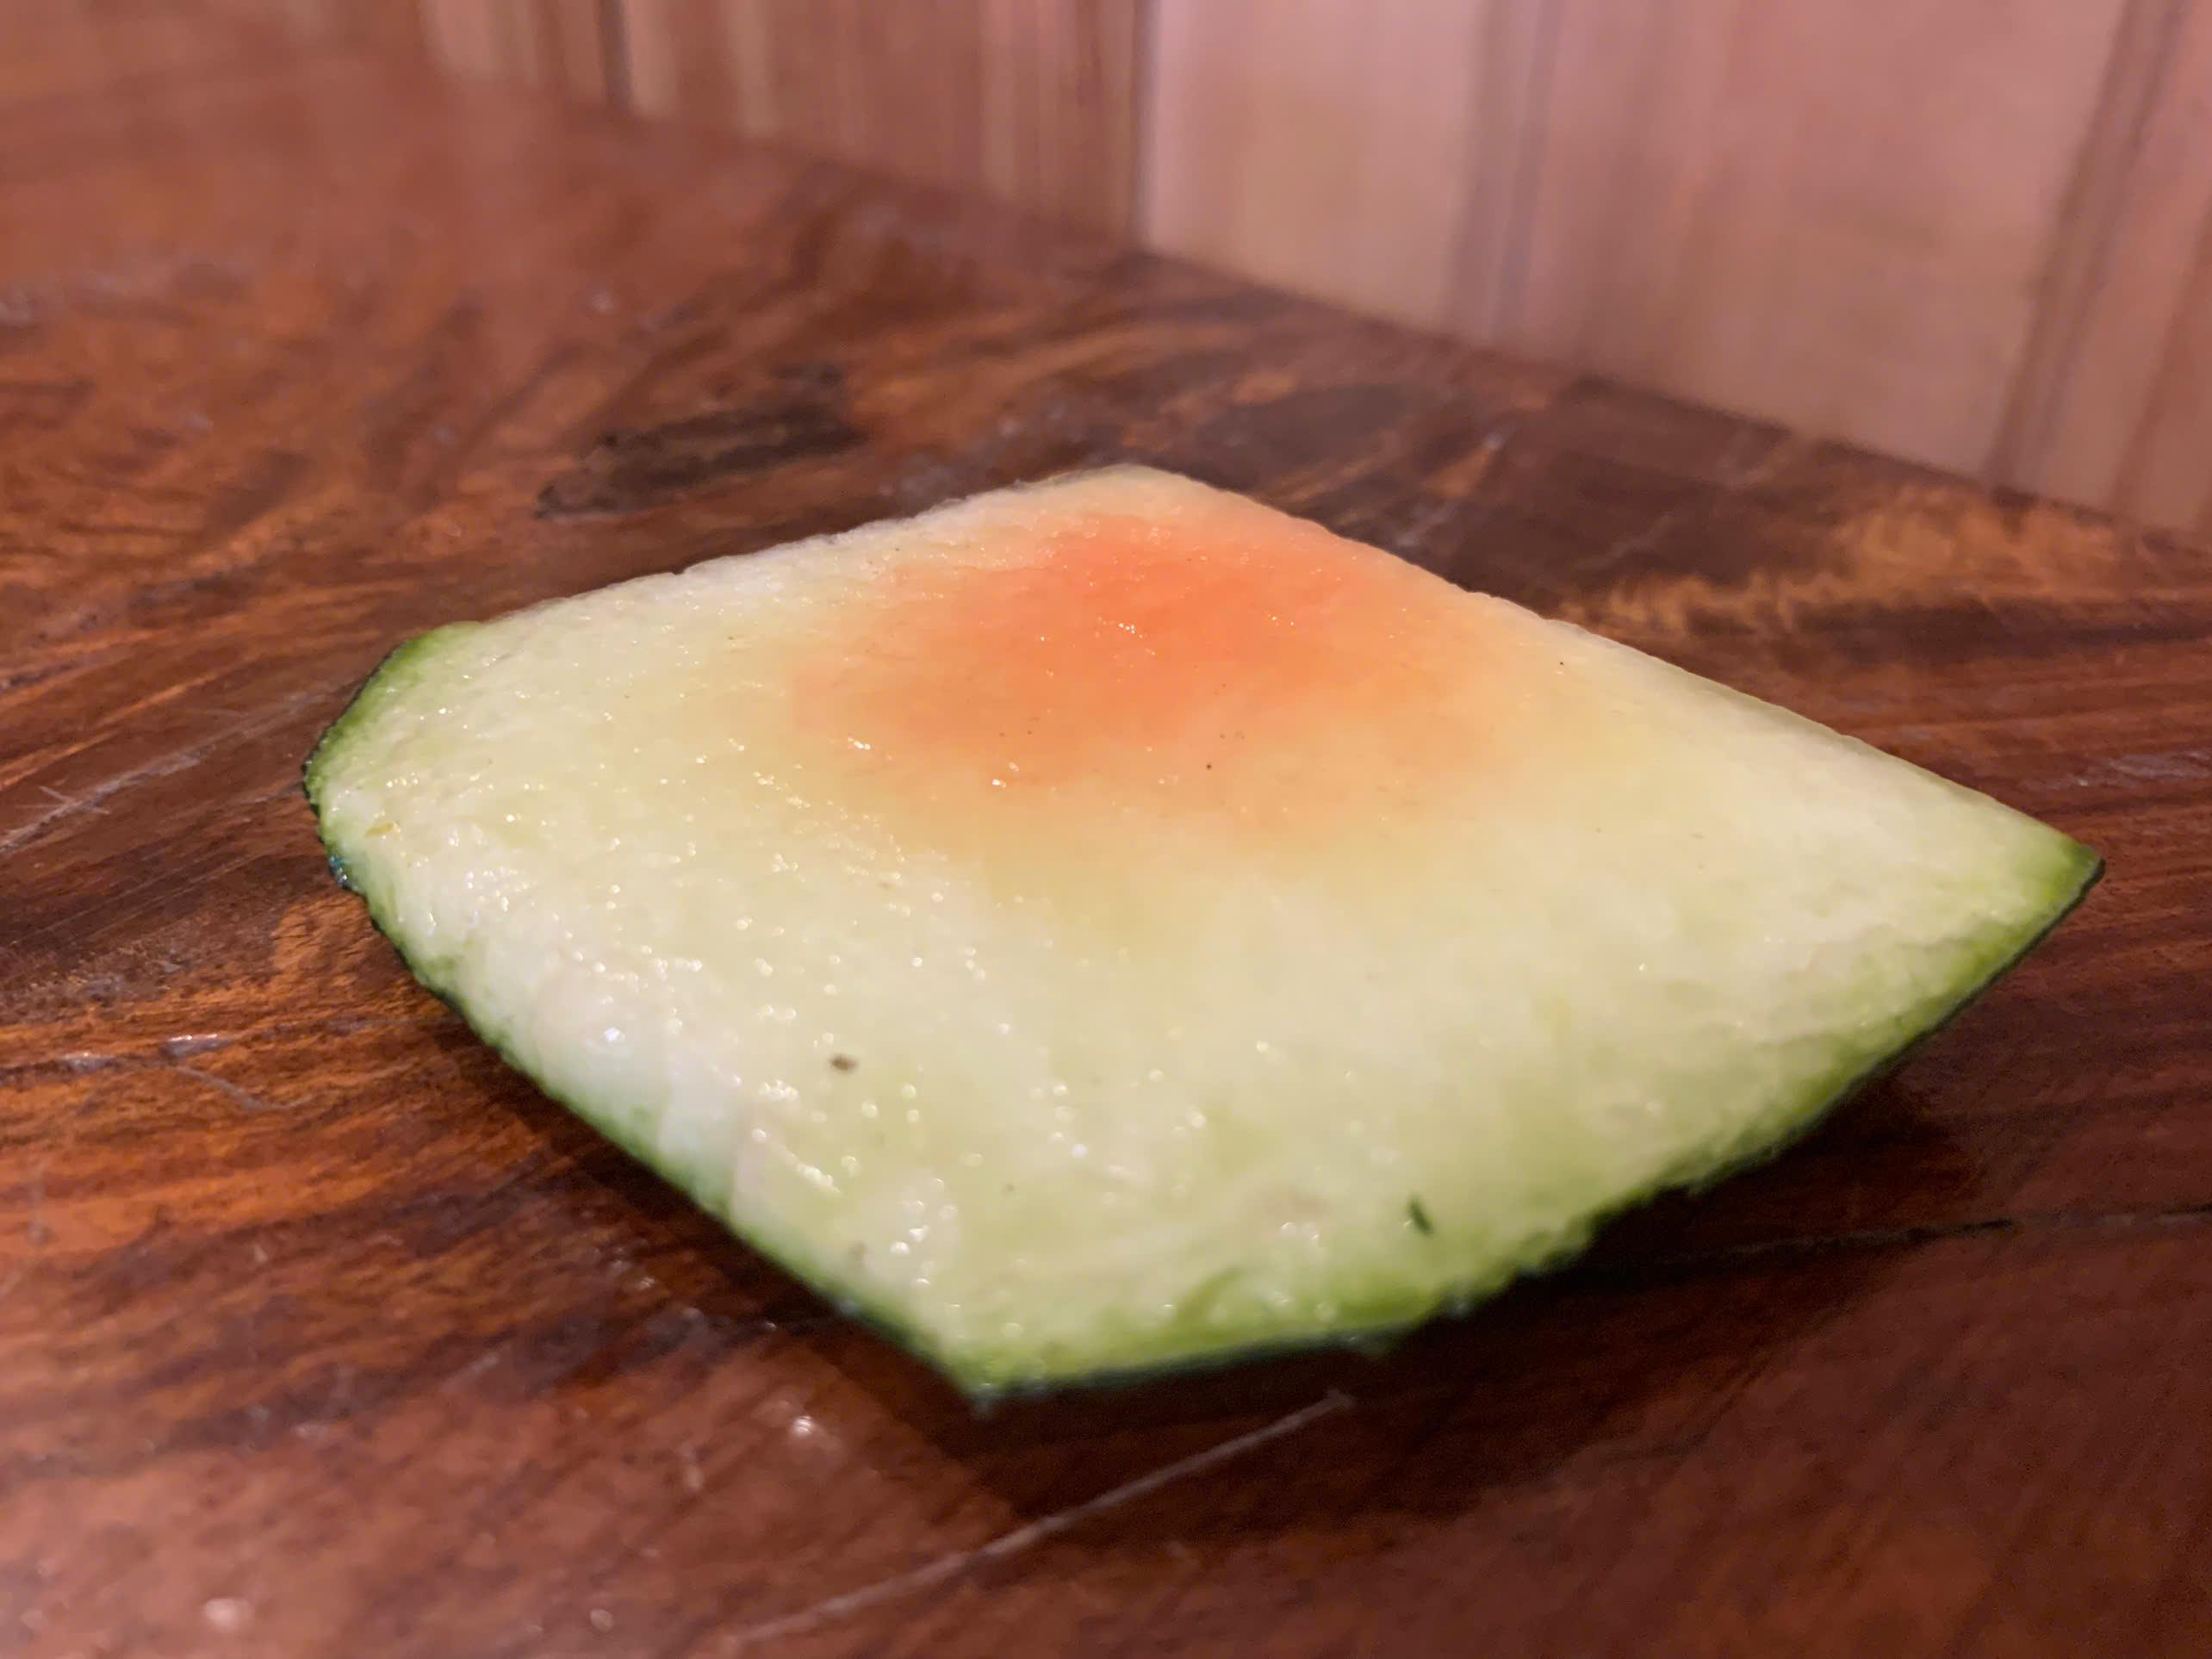Huu co: (314, 469, 2102, 1377)
